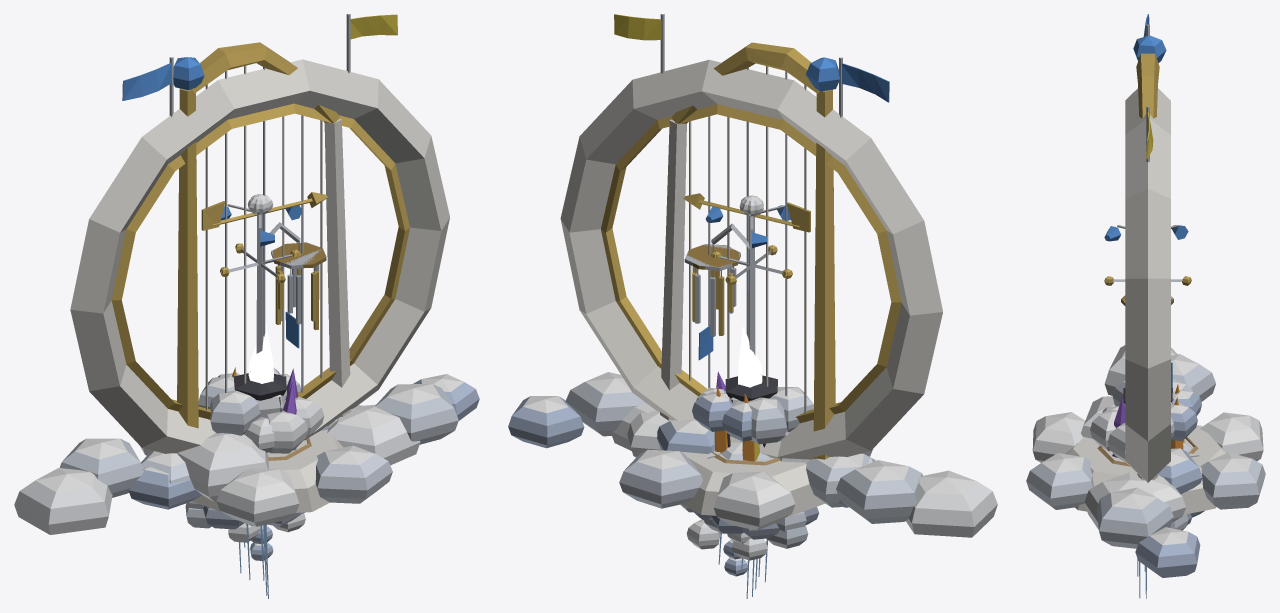
Rendered from clouds.glb.
3 renders of one model, left to right at view 1: azimuth 30°, elevation 25°; view 2: azimuth 150°, elevation 25°; view 3: azimuth 270°, elevation 25°, orthographic. The views are drawn at different scales.
Parts seen in each view (by area): view 1: clouds_sky_gate_a, clouds_wind_harp_a, clouds_cloud_bush_b, clouds_wind_chimes_a, clouds_weather_vane_a, clouds_cloud_bush_a, clouds_cloud_spill_b, clouds_wind_chimes_b, clouds_rainbow_crystal_b, clouds_weather_vane_b, clouds_storm_jar_a, clouds_raincloud_b (+1 smaller); view 2: clouds_sky_gate_a, clouds_wind_harp_a, clouds_wind_chimes_a, clouds_cloud_bush_a, clouds_cloud_spill_b, clouds_cloud_bush_b, clouds_weather_vane_a, clouds_rainbow_crystal_b, clouds_wind_chimes_b, clouds_weather_vane_b, clouds_storm_jar_a, clouds_cloud_spill_a (+1 smaller); view 3: clouds_sky_gate_a, clouds_wind_harp_a, clouds_cloud_bush_a, clouds_cloud_bush_b, clouds_weather_vane_b, clouds_rainbow_crystal_a.
Boxes of the visible parts, x1,y1,x2,y2 form: clouds_sky_gate_a: [14, 14, 479, 534]; clouds_wind_harp_a: [140, 42, 392, 526]; clouds_cloud_bush_b: [209, 373, 324, 452]; clouds_wind_chimes_a: [256, 222, 326, 353]; clouds_weather_vane_a: [201, 192, 327, 283]; clouds_cloud_bush_a: [198, 368, 307, 453]; clouds_cloud_spill_b: [185, 503, 305, 560]; clouds_wind_chimes_b: [271, 242, 326, 330]; clouds_rainbow_crystal_b: [232, 321, 297, 450]; clouds_weather_vane_b: [220, 194, 301, 283]; clouds_storm_jar_a: [233, 371, 286, 411]; clouds_raincloud_b: [203, 506, 305, 580]; clouds_sky_gate_a: [508, 14, 997, 537]; clouds_wind_harp_a: [619, 42, 875, 530]; clouds_wind_chimes_a: [687, 223, 755, 360]; clouds_cloud_bush_a: [692, 390, 789, 444]; clouds_cloud_spill_b: [686, 518, 808, 576]; clouds_cloud_bush_b: [696, 387, 813, 441]; clouds_weather_vane_a: [683, 193, 810, 285]; clouds_rainbow_crystal_b: [716, 326, 762, 461]; clouds_wind_chimes_b: [684, 244, 740, 336]; clouds_weather_vane_b: [705, 195, 792, 283]; clouds_storm_jar_a: [725, 374, 777, 447]; clouds_cloud_spill_a: [680, 504, 806, 559]; clouds_sky_gate_a: [1081, 14, 1215, 577]; clouds_wind_harp_a: [1026, 35, 1265, 522]; clouds_cloud_bush_a: [1090, 379, 1197, 451]; clouds_cloud_bush_b: [1102, 381, 1201, 461]; clouds_weather_vane_b: [1104, 225, 1189, 285]; clouds_rainbow_crystal_a: [1112, 397, 1183, 457].
Size of the model in its own units: 2.85 by 3.33 by 1.36.
